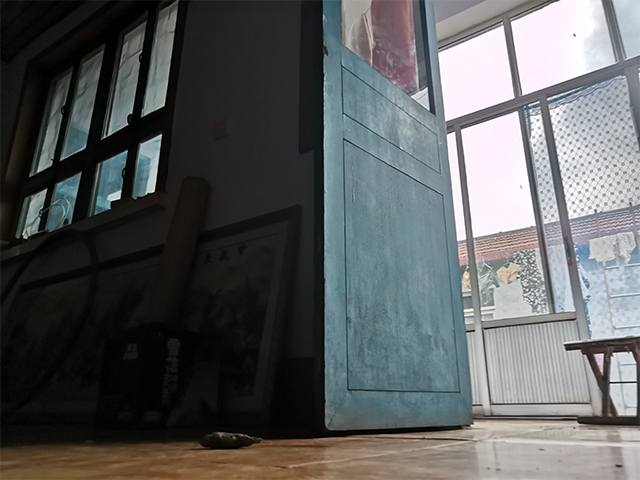feces: (197, 430, 266, 451)
stool: (560, 333, 640, 428)
